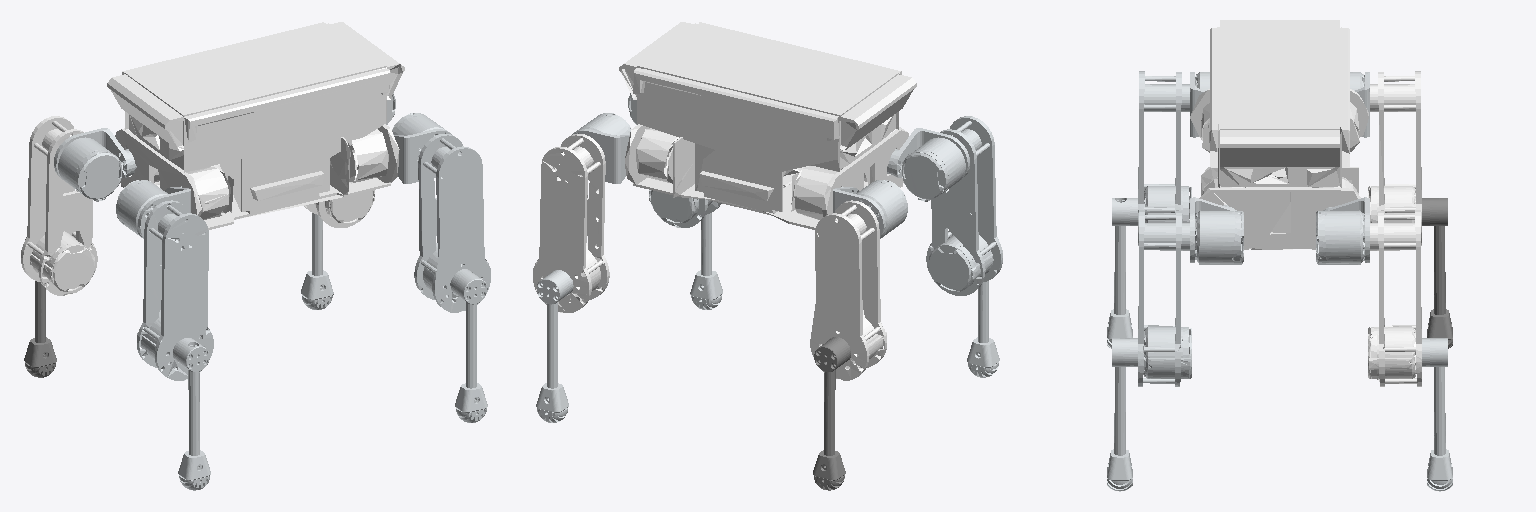
The robot description file, URDF, robot "Pi":
<?xml version="1.0" encoding="utf-8"?>
<!-- This URDF was automatically created by SolidWorks to URDF Exporter! Originally created by [author] ([email redacted]) 
     Commit Version: 1.6.0-4-g7f85cfe  Build Version: 1.6.7995.38578
     For more information, please see http://wiki.ros.org/sw_urdf_exporter -->
<robot
  name="Pi">

  <link
    name="base_link">
    <inertial>
      <origin
        xyz="0.00133848490515343 5.14689522907764E-06 -0.0136090532207086"
        rpy="0 0 0" />
      <mass
        value="1.00378371069595" />
      <inertia
        ixx="0.00113315236598304"
        ixy="3.03570814161609E-09"
        ixz="-1.62664474861079E-07"
        iyy="0.001911747175378"
        iyz="1.34243687280852E-10"
        izz="0.00241030986629113" />
    </inertial>
    <visual>
      <origin
        xyz="0 0 0"
        rpy="0 0 0" />
      <geometry>
        <mesh
          filename="package://Pi/meshes/base_link.STL" />
      </geometry>
      <material
        name="">
        <color
          rgba="1 1 1 1" />
      </material>
    </visual>
    <collision>
      <origin
        xyz="0 0 0"
        rpy="0 0 0" />
      <geometry>
        <mesh
          filename="package://Pi/meshes/base_link.STL" />
      </geometry>
    </collision>
  </link>

    <!-- ###########FL############## -->
  <link
    name="FL_crotch_Link">
    <inertial>
      <origin
        xyz="0.0256169182441916 0.0165416588699999 -4.90880668981841E-05"
        rpy="0 0 0" />
      <mass
        value="0.084455265620677" />
      <inertia
        ixx="2.71505787132732E-05"
        ixy="-8.00387812004604E-06"
        ixz="-5.92288354455041E-08"
        iyy="3.52401891460416E-05"
        iyz="-3.45132254889726E-09"
        izz="3.3823779852933E-05" />
    </inertial>
    <visual>
      <origin
        xyz="0 0 0"
        rpy="0 0 0" />
      <geometry>
        <mesh
          filename="package://Pi/meshes/FL_crotch_Link.STL" />
      </geometry>
      <material
        name="">
        <color
          rgba="0.898039215686275 0.917647058823529 0.929411764705882 1" />
      </material>
    </visual>
    <collision>
      <origin
        xyz="0 0 0"
        rpy="0 0 0" />
      <geometry>
        <mesh
          filename="package://Pi/meshes/FL_crotch_Link.STL" />
      </geometry>
    </collision>
  </link>
  <joint
    name="FL_crotch_joint"
    type="revolute">
    <origin
      xyz="0.115 0.05 -0.0325"
      rpy="0 0 0" />
    <parent
      link="base_link" />
    <child
      link="FL_crotch_Link" />
    <axis
      xyz="-1 0 0" />
    <limit effort="80.0" lower="-0.72" upper="0.49" velocity="20"/>
  </joint>
  <link
    name="FL_thigh_Link">
    <inertial>
      <origin
        xyz="0.00096019916007356 0.00893006498058689 -0.0566644934375178"
        rpy="0 0 0" />
      <mass
        value="0.2062744308533" />
      <inertia
        ixx="0.000289914582443929"
        ixy="-2.63372560927896E-09"
        ixz="2.63697363718518E-06"
        iyy="0.000319310161915524"
        iyz="1.71899786065963E-06"
        izz="5.04038623771187E-05" />
    </inertial>
    <visual>
      <origin
        xyz="0 0 0"
        rpy="0 0 0" />
      <geometry>
        <mesh
          filename="package://Pi/meshes/FL_thigh_Link.STL" />
      </geometry>
      <material
        name="">
        <color
          rgba="1 1 1 1" />
      </material>
    </visual>
    <collision>
      <origin
        xyz="0 0 0"
        rpy="0 0 0" />
      <geometry>
        <mesh
          filename="package://Pi/meshes/FL_thigh_Link.STL" />
      </geometry>
    </collision>
  </link>
  <joint
    name="FL_thigh_joint"
    type="revolute">
    <origin
      xyz="0.0399999999998341 0.0539983529453723 0.000359178774149926"
      rpy="0 0 0" />
    <parent
      link="FL_crotch_Link" />
    <child
      link="FL_thigh_Link" />
    <axis
      xyz="0 -0.99997787843264 -0.00665151451595182" />
    <limit effort="80.0" lower="-9.42477796077" upper="9.42477796077" velocity="20"/>
  </joint>
  <link
    name="FL_calf_Link">
    <inertial>
      <origin
        xyz="-0.0002202356677381 0.00987175223392316 -0.0482127438446368"
        rpy="0 0 0" />
      <mass
        value="0.0483849808171367" />
      <inertia
        ixx="1.82735053812336E-05"
        ixy="4.97274885304573E-10"
        ixz="-6.43320251708019E-08"
        iyy="1.92689451415005E-05"
        iyz="1.04981497285364E-07"
        izz="3.30354888843996E-06" />
    </inertial>
    <visual>
      <origin
        xyz="0 0 0"
        rpy="0 0 0" />
      <geometry>
        <mesh
          filename="package://Pi/meshes/FL_calf_Link.STL" />
      </geometry>
      <material
        name="">
        <color
          rgba="0.898039215686275 0.917647058823529 0.929411764705882 1" />
      </material>
    </visual>
    <collision>
      <origin
        xyz="0 0 0"
        rpy="0 0 0" />
      <geometry>
        <mesh
          filename="package://Pi/meshes/FL_calf_Link.STL" />
      </geometry>
    </collision>
  </link>
  <joint
    name="FL_calf_joint"
    type="revolute">
    <origin
      xyz="0.00215598212551332 0.0312969257088813 -0.119775108348922"
      rpy="0 0 0" />
    <parent
      link="FL_thigh_Link" />
    <child
      link="FL_calf_Link" />
    <axis
      xyz="0 -0.99997787843264 -0.00665151451595965" />
    <limit effort="80.0" lower="-9.42477796077" upper="9.42477796077" velocity="20"/>
  </joint>

    <!-- ###########FR############## -->
  <link
    name="FR_crotch_Link">
    <inertial>
      <origin
        xyz="0.0256305544399877 -0.0165416588565022 -4.90858368999425E-05"
        rpy="0 0 0" />
      <mass
        value="0.084455265621055" />
      <inertia
        ixx="2.71505787268989E-05"
        ixy="8.00614015090826E-06"
        ixz="-4.72644255685669E-08"
        iyy="3.52401891872756E-05"
        iyz="3.45330349748465E-09"
        izz="3.38237798299212E-05" />
    </inertial>
    <visual>
      <origin
        xyz="0 0 0"
        rpy="0 0 0" />
      <geometry>
        <mesh
          filename="package://Pi/meshes/FR_crotch_Link.STL" />
      </geometry>
      <material
        name="">
        <color
          rgba="0.898039215686275 0.917647058823529 0.929411764705882 1" />
      </material>
    </visual>
    <collision>
      <origin
        xyz="0 0 0"
        rpy="0 0 0" />
      <geometry>
        <mesh
          filename="package://Pi/meshes/FR_crotch_Link.STL" />
      </geometry>
    </collision>
  </link>
  <joint
    name="FR_crotch_joint"
    type="revolute">
    <origin
      xyz="0.115 -0.05 -0.0325"
      rpy="0 0 0" />
    <parent
      link="base_link" />
    <child
      link="FR_crotch_Link" />
    <axis
      xyz="-1 0 0" />
    <limit effort="80.0" lower="-0.49" upper="0.72" velocity="20"/>
  </joint>
  <link
    name="FR_thigh_Link">
    <inertial>
      <origin
        xyz="0.000960098855812386 -0.00894503564351563 -0.0566588115289323"
        rpy="0 0 0" />
      <mass
        value="0.206274430801375" />
      <inertia
        ixx="0.000289915012808346"
        ixy="4.87802312259737E-09"
        ixz="2.62498732078084E-06"
        iyy="0.000319309593057774"
        iyz="-1.7617563833944E-06"
        izz="5.04040008261291E-05" />
    </inertial>
    <visual>
      <origin
        xyz="0 0 0"
        rpy="0 0 0" />
      <geometry>
        <mesh
          filename="package://Pi/meshes/FR_thigh_Link.STL" />
      </geometry>
      <material
        name="">
        <color
          rgba="0.898039215686275 0.917647058823529 0.929411764705882 1" />
      </material>
    </visual>
    <collision>
      <origin
        xyz="0 0 0"
        rpy="0 0 0" />
      <geometry>
        <mesh
          filename="package://Pi/meshes/FR_thigh_Link.STL" />
      </geometry>
    </collision>
  </link>
  <joint
    name="FR_thigh_joint"
    type="revolute">
    <origin
      xyz="0.04 -0.053998 0.00035918"
      rpy="0 0 0" />
    <parent
      link="FR_crotch_Link" />
    <child
      link="FR_thigh_Link" />
    <axis
      xyz="0 0.99998 -0.0066515" />
    <limit effort="80.0" lower="-9.42477796077" upper="9.42477796077" velocity="20"/>
  </joint>
  <link
    name="FR_calf_Link">
    <inertial>
      <origin
        xyz="-0.000220229931619964 -0.00977418051539439 -0.0482181911351247"
        rpy="0 0 0" />
      <mass
        value="0.0483850491426625" />
      <inertia
        ixx="1.82735095335642E-05"
        ixy="-3.54063974659177E-10"
        ixz="-6.43159928537928E-08"
        iyy="1.92689462714829E-05"
        iyz="-1.05124877532473E-07"
        izz="3.30355243443649E-06" />
    </inertial>
    <visual>
      <origin
        xyz="0 0 0"
        rpy="0 0 0" />
      <geometry>
        <mesh
          filename="package://Pi/meshes/FR_calf_Link.STL" />
      </geometry>
      <material
        name="">
        <color
          rgba="0.898039215686275 0.917647058823529 0.929411764705882 1" />
      </material>
    </visual>
    <collision>
      <origin
        xyz="0 0 0"
        rpy="0 0 0" />
      <geometry>
        <mesh
          filename="package://Pi/meshes/FR_calf_Link.STL" />
      </geometry>
    </collision>
  </link>
  <joint
    name="FR_calf_joint"
    type="revolute">
    <origin
      xyz="0.00215598212551316 -0.0312969257088814 -0.119775108348922"
      rpy="0 0 0" />
    <parent
      link="FR_thigh_Link" />
    <child
      link="FR_calf_Link" />
    <axis
      xyz="0 0.999977878432641 -0.00665151451595271" />
    <limit effort="80.0" lower="-9.42477796077" upper="9.42477796077" velocity="20"/>
  </joint>

    <!-- ###########HL############## -->
  <link
    name="HL_crotch_Link">
    <inertial>
      <origin
        xyz="-0.0256305544399846 0.0165416588565022 -4.90858369002756E-05"
        rpy="0 0 0" />
      <mass
        value="0.0844552656210552" />
      <inertia
        ixx="2.71505787268989E-05"
        ixy="8.00614015090826E-06"
        ixz="4.72644255685728E-08"
        iyy="3.52401891872757E-05"
        iyz="-3.45330349749255E-09"
        izz="3.38237798299211E-05" />
    </inertial>
    <visual>
      <origin
        xyz="0 0 0"
        rpy="0 0 0" />
      <geometry>
        <mesh
          filename="package://Pi/meshes/HL_crotch_Link.STL" />
      </geometry>
      <material
        name="">
        <color
          rgba="0.898039215686275 0.917647058823529 0.929411764705882 1" />
      </material>
    </visual>
    <collision>
      <origin
        xyz="0 0 0"
        rpy="0 0 0" />
      <geometry>
        <mesh
          filename="package://Pi/meshes/HL_crotch_Link.STL" />
      </geometry>
    </collision>
  </link>
  <joint
    name="HL_crotch_joint"
    type="revolute">
    <origin
      xyz="-0.115 0.05 -0.0325"
      rpy="0 0 0" />
    <parent
      link="base_link" />
    <child
      link="HL_crotch_Link" />
    <axis
      xyz="-1 0 0" />
    <limit effort="80.0" lower="-0.72" upper="0.49" velocity="20"/>
  </joint>
  <link
    name="HL_thigh_Link">
    <inertial>
      <origin
        xyz="-0.000960098855812525 0.00894503564351555 -0.0566588115289323"
        rpy="0 0 0" />
      <mass
        value="0.206274430801375" />
      <inertia
        ixx="0.000289915012808345"
        ixy="4.87802312259656E-09"
        ixz="-2.62498732078101E-06"
        iyy="0.000319309593057774"
        iyz="1.7617563833944E-06"
        izz="5.04040008261291E-05" />
    </inertial>
    <visual>
      <origin
        xyz="0 0 0"
        rpy="0 0 0" />
      <geometry>
        <mesh
          filename="package://Pi/meshes/HL_thigh_Link.STL" />
      </geometry>
      <material
        name="">
        <color
          rgba="1 1 1 1" />
      </material>
    </visual>
    <collision>
      <origin
        xyz="0 0 0"
        rpy="0 0 0" />
      <geometry>
        <mesh
          filename="package://Pi/meshes/HL_thigh_Link.STL" />
      </geometry>
    </collision>
  </link>
  <joint
    name="HL_thigh_joint"
    type="revolute">
    <origin
      xyz="-0.039999999999831 0.0539983529453723 0.000359178774149427"
      rpy="0 0 0" />
    <parent
      link="HL_crotch_Link" />
    <child
      link="HL_thigh_Link" />
    <axis
      xyz="0 -0.99997787843264 -0.0066515145159517" />
    <limit effort="80.0" lower="-9.42477796077" upper="9.42477796077" velocity="20"/>
  </joint>
  <link
    name="HL_calf_Link">
    <inertial>
      <origin
        xyz="-2.23180575001092E-05 0.0403628342695992 -0.0615128453120109"
        rpy="0 0 0" />
      <mass
        value="0.0483850491426628" />
      <inertia
        ixx="1.82735095335645E-05"
        ixy="-3.54063974659879E-10"
        ixz="6.43159928537837E-08"
        iyy="1.92689462714831E-05"
        iyz="1.05124877532479E-07"
        izz="3.30355243443649E-06" />
    </inertial>
    <visual>
      <origin
        xyz="0 0 0"
        rpy="0 0 0" />
      <geometry>
        <mesh
          filename="package://Pi/meshes/HL_calf_Link.STL" />
      </geometry>
      <material
        name="">
        <color
          rgba="0.6 0.6 0.6 1" />
      </material>
    </visual>
    <collision>
      <origin
        xyz="0 0 0"
        rpy="0 0 0" />
      <geometry>
        <mesh
          filename="package://Pi/meshes/HL_calf_Link.STL" />
      </geometry>
    </collision>
  </link>
  <joint
    name="HL_calf_joint"
    type="revolute">
    <origin
      xyz="-0.00191343413639342 0.00070827195467657 -0.106480454172035"
      rpy="0 0 0" />
    <parent
      link="HL_thigh_Link" />
    <child
      link="HL_calf_Link" />
    <axis
      xyz="0 0.999977878432641 -0.00665151451595271" />
    <limit effort="80.0" lower="-9.42477796077" upper="9.42477796077" velocity="20"/>
  </joint>

    <!-- ###########HR############## -->
  <link
    name="HR_crotch_Link">
    <inertial>
      <origin
        xyz="-0.0256169182441885 -0.01654165887 -4.90880668981286E-05"
        rpy="0 0 0" />
      <mass
        value="0.0844552656206767" />
      <inertia
        ixx="2.71505787132731E-05"
        ixy="-8.00387812004602E-06"
        ixz="5.92288354455117E-08"
        iyy="3.52401891460415E-05"
        iyz="3.45132254891491E-09"
        izz="3.3823779852933E-05" />
    </inertial>
    <visual>
      <origin
        xyz="0 0 0"
        rpy="0 0 0" />
      <geometry>
        <mesh
          filename="package://Pi/meshes/HR_crotch_Link.STL" />
      </geometry>
      <material
        name="">
        <color
          rgba="0.898039215686275 0.917647058823529 0.929411764705882 1" />
      </material>
    </visual>
    <collision>
      <origin
        xyz="0 0 0"
        rpy="0 0 0" />
      <geometry>
        <mesh
          filename="package://Pi/meshes/HR_crotch_Link.STL" />
      </geometry>
    </collision>
  </link>
  <joint
    name="HR_crotch_joint"
    type="revolute">
    <origin
      xyz="-0.115 -0.05 -0.0325"
      rpy="0 0 0" />
    <parent
      link="base_link" />
    <child
      link="HR_crotch_Link" />
    <axis
      xyz="-1 0 0" />
    <limit effort="80.0" lower="-0.49" upper="0.72" velocity="20"/>
  </joint>
  <link
    name="HR_thigh_Link">
    <inertial>
      <origin
        xyz="-0.000960199160073422 -0.00893006498058689 -0.0566644934375174"
        rpy="0 0 0" />
      <mass
        value="0.2062744308533" />
      <inertia
        ixx="0.00028991458244393"
        ixy="-2.63372560926277E-09"
        ixz="-2.63697363718538E-06"
        iyy="0.000319310161915524"
        iyz="-1.71899786065965E-06"
        izz="5.04038623771188E-05" />
    </inertial>
    <visual>
      <origin
        xyz="0 0 0"
        rpy="0 0 0" />
      <geometry>
        <mesh
          filename="package://Pi/meshes/HR_thigh_Link.STL" />
      </geometry>
      <material
        name="">
        <color
          rgba="0.898039215686275 0.917647058823529 0.929411764705882 1" />
      </material>
    </visual>
    <collision>
      <origin
        xyz="0 0 0"
        rpy="0 0 0" />
      <geometry>
        <mesh
          filename="package://Pi/meshes/HR_thigh_Link.STL" />
      </geometry>
    </collision>
  </link>
  <joint
    name="HR_thigh_joint"
    type="revolute">
    <origin
      xyz="-0.04 -0.053998 0.00035918"
      rpy="0 0 0" />
    <parent
      link="HR_crotch_Link" />
    <child
      link="HR_thigh_Link" />
    <axis
      xyz="0 0.99998 -0.0066515" />
    <limit effort="80.0" lower="-9.42477796077" upper="9.42477796077" velocity="20"/>
  </joint>
  <link
    name="HR_calf_Link">
    <inertial>
      <origin
        xyz="0.00022095554276666 -0.00987289256566612 -0.0483841709620029"
        rpy="0 0 0" />
      <mass
        value="0.0483849809894394" />
      <inertia
        ixx="1.82735054147423E-05"
        ixy="4.920909860765E-10"
        ixz="6.43320521324408E-08"
        iyy="1.92689146104874E-05"
        iyz="-1.07276539311185E-07"
        izz="3.30357941291964E-06" />
    </inertial>
    <visual>
      <origin
        xyz="0 0 0"
        rpy="0 0 0" />
      <geometry>
        <mesh
          filename="package://Pi/meshes/HR_calf_Link.STL" />
      </geometry>
      <material
        name="">
        <color
          rgba="0.898039215686275 0.917647058823529 0.929411764705882 1" />
      </material>
    </visual>
    <collision>
      <origin
        xyz="0 0 0"
        rpy="0 0 0" />
      <geometry>
        <mesh
          filename="package://Pi/meshes/HR_calf_Link.STL" />
      </geometry>
    </collision>
  </link>
  <joint
    name="HR_calf_joint"
    type="revolute">
    <origin
      xyz="-0.002156 -0.031297 -0.11978"
      rpy="0 0 0" />
    <parent
      link="HR_thigh_Link" />
    <child
      link="HR_calf_Link" />
    <axis
      xyz="0 -0.99998 -0.0066515" />
    <limit effort="80.0" lower="-9.42477796077" upper="9.42477796077" velocity="20"/>
  </joint>
</robot>

--- Facts derived from the render (not from the file) ---
3 views of the same robot in one strip: view 1: azimuth 30°, elevation 25°; view 2: azimuth 150°, elevation 25°; view 3: azimuth 270°, elevation 25° (orthographic).
Model Pi with 13 links and 12 joints (12 revolute), rooted at base_link, posed every joint at zero.
Visible links, largest first — view 1: base_link, HR_thigh_Link, FR_thigh_Link, HL_thigh_Link, HL_crotch_Link, HR_calf_Link, FR_calf_Link, HR_crotch_Link, FR_crotch_Link, HL_calf_Link, FL_calf_Link, FL_thigh_Link; view 2: base_link, HL_thigh_Link, FL_thigh_Link, HR_thigh_Link, HR_crotch_Link, HL_calf_Link, FL_calf_Link, HL_crotch_Link, FL_crotch_Link, FR_calf_Link, HR_calf_Link, FR_thigh_Link; view 3: base_link, FL_thigh_Link, FR_thigh_Link, HL_thigh_Link, HR_thigh_Link, FR_crotch_Link, FL_crotch_Link, FL_calf_Link, FR_calf_Link, HL_calf_Link, HR_calf_Link, HR_crotch_Link (+1 smaller).
Boxes of the visible links, x1=… form: base_link: x1=107, y1=22, x2=404, y2=229; HR_thigh_Link: x1=137, y1=200, x2=213, y2=380; FR_thigh_Link: x1=414, y1=134, x2=490, y2=312; HL_thigh_Link: x1=21, y1=116, x2=97, y2=295; HL_crotch_Link: x1=54, y1=128, x2=136, y2=201; HR_calf_Link: x1=173, y1=338, x2=210, y2=490; FR_calf_Link: x1=450, y1=269, x2=487, y2=422; HR_crotch_Link: x1=116, y1=180, x2=190, y2=238; FR_crotch_Link: x1=392, y1=113, x2=451, y2=183; HL_calf_Link: x1=24, y1=237, x2=56, y2=377; FL_calf_Link: x1=301, y1=213, x2=333, y2=309; FL_thigh_Link: x1=304, y1=190, x2=374, y2=227; base_link: x1=619, y1=22, x2=916, y2=229; HL_thigh_Link: x1=810, y1=200, x2=886, y2=380; FL_thigh_Link: x1=533, y1=134, x2=609, y2=312; HR_thigh_Link: x1=926, y1=116, x2=1002, y2=295; HR_crotch_Link: x1=887, y1=128, x2=969, y2=201; HL_calf_Link: x1=813, y1=337, x2=850, y2=490; FL_calf_Link: x1=536, y1=270, x2=573, y2=422; HL_crotch_Link: x1=833, y1=180, x2=907, y2=238; FL_crotch_Link: x1=572, y1=113, x2=630, y2=183; FR_calf_Link: x1=690, y1=213, x2=722, y2=309; HR_calf_Link: x1=967, y1=237, x2=999, y2=377; FR_thigh_Link: x1=649, y1=190, x2=721, y2=227; base_link: x1=1190, y1=20, x2=1368, y2=249; FL_thigh_Link: x1=1368, y1=210, x2=1421, y2=386; FR_thigh_Link: x1=1138, y1=210, x2=1191, y2=386; HL_thigh_Link: x1=1368, y1=71, x2=1421, y2=245; HR_thigh_Link: x1=1138, y1=71, x2=1191, y2=245; FR_crotch_Link: x1=1190, y1=197, x2=1243, y2=264; FL_crotch_Link: x1=1316, y1=197, x2=1369, y2=264; FL_calf_Link: x1=1422, y1=338, x2=1452, y2=491; FR_calf_Link: x1=1107, y1=338, x2=1137, y2=491; HL_calf_Link: x1=1422, y1=198, x2=1452, y2=348; HR_calf_Link: x1=1107, y1=198, x2=1137, y2=348; HR_crotch_Link: x1=1190, y1=72, x2=1209, y2=137.
Bounding box of the posed robot: 0.3788 × 0.3266 × 0.3566 m (x, y, z).
Meshes: 13 distinct files referenced, 13 mesh visuals loaded (13 binary STL).
